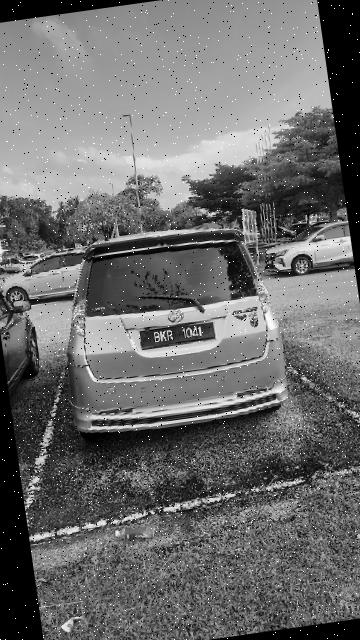License_Plate: (136, 314, 221, 352)
car: (48, 214, 295, 449)
